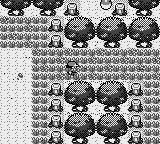captura: (0, 16, 159, 143)
main: (66, 61, 79, 73)
no-caminable: (65, 0, 159, 49), (65, 80, 128, 144), (48, 81, 65, 143), (0, 0, 64, 16), (128, 83, 143, 144), (47, 16, 64, 48), (64, 2, 80, 17), (112, 3, 129, 17)
poke-ball: (100, 0, 112, 10)
